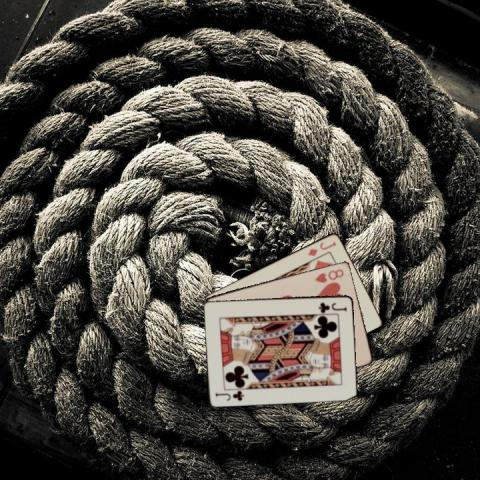8h: (312, 266, 345, 284)
Jc: (213, 387, 245, 402), (316, 299, 348, 313)
Jd: (305, 238, 338, 257)
